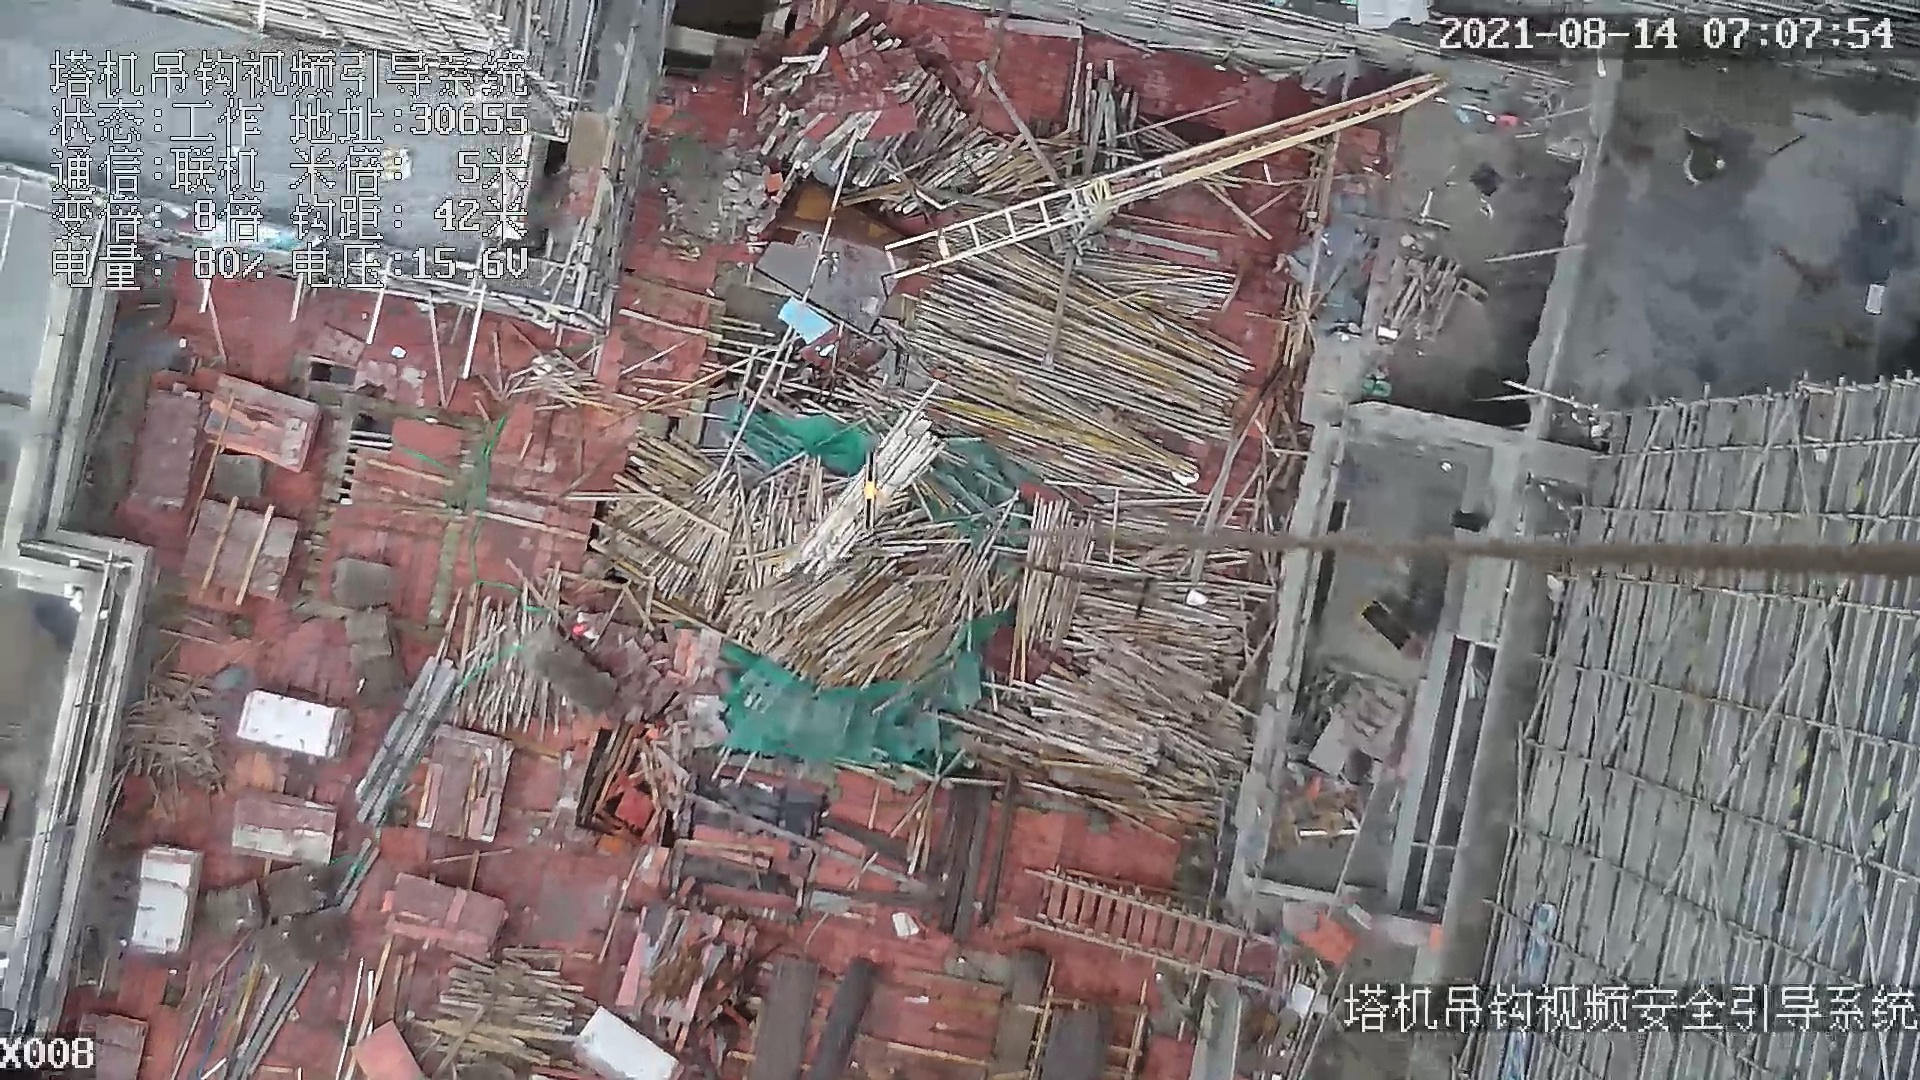hook: (858, 447, 887, 542)
